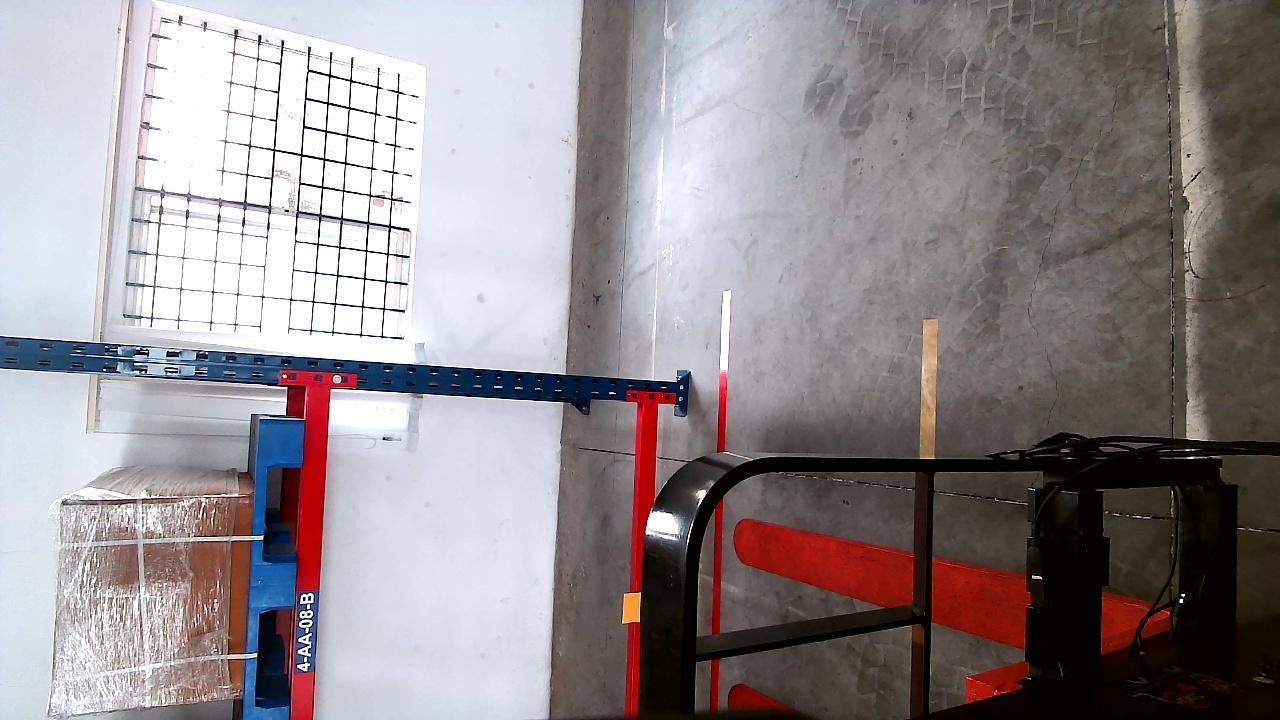h_rack: (290, 388, 331, 719), (626, 405, 661, 718)
red_line: (702, 363, 731, 706)
small_pallet: (244, 417, 304, 720)
yellow_line: (918, 319, 941, 458)
